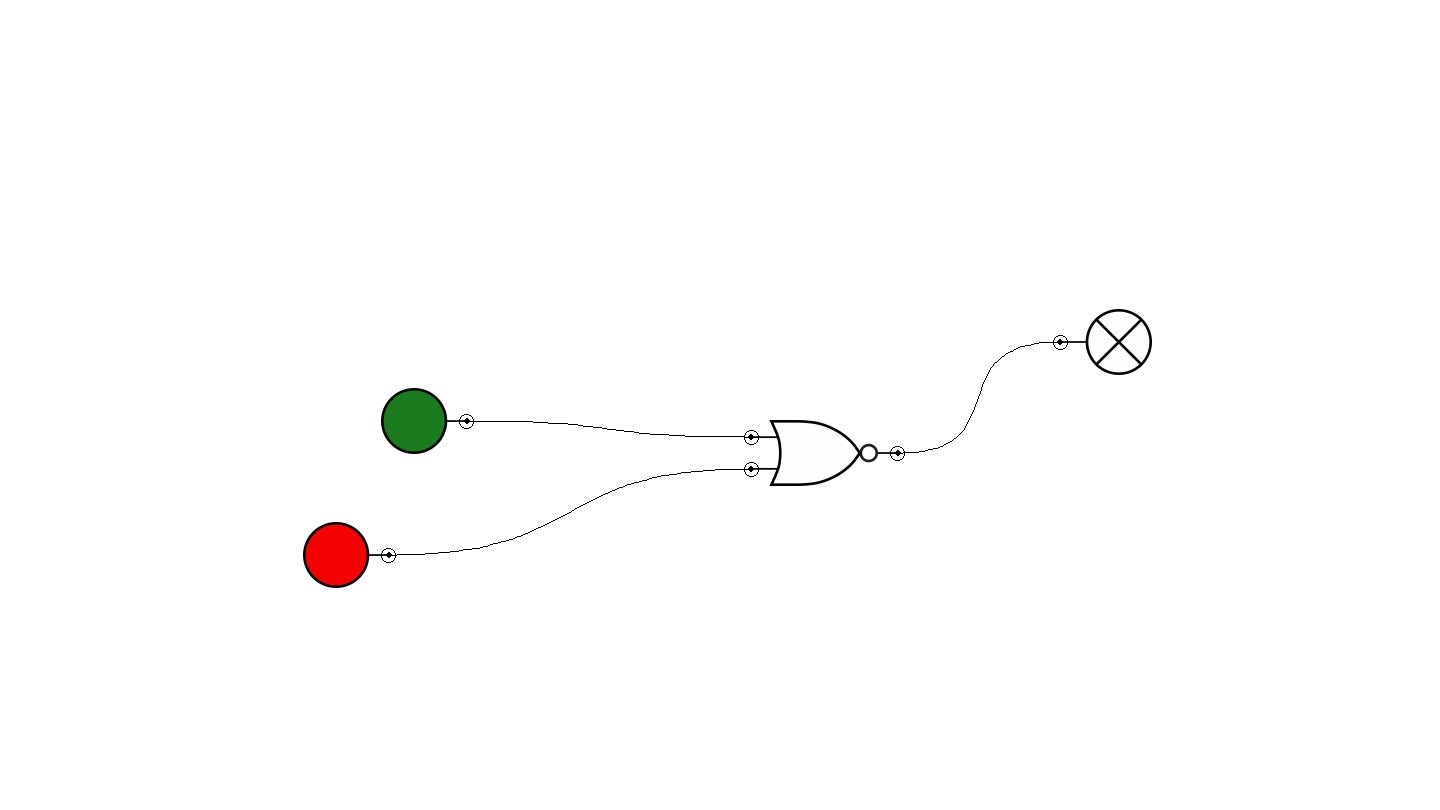bulb: (1053, 309, 1152, 375)
nor: (744, 420, 905, 486)
switch_False: (303, 522, 396, 588)
switch_True: (381, 388, 474, 454)
